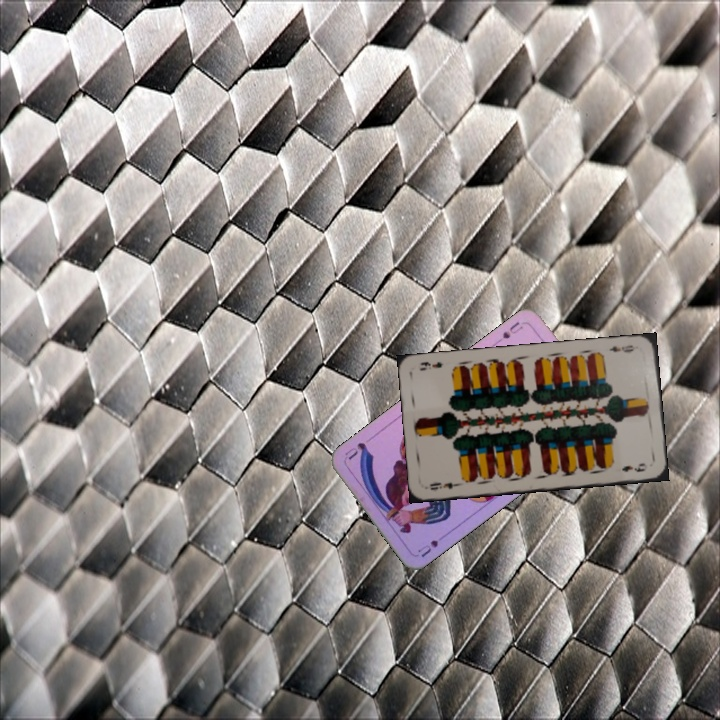E9: (426, 478, 464, 494), (605, 341, 641, 355)
SU: (414, 530, 450, 560), (498, 318, 526, 341)
